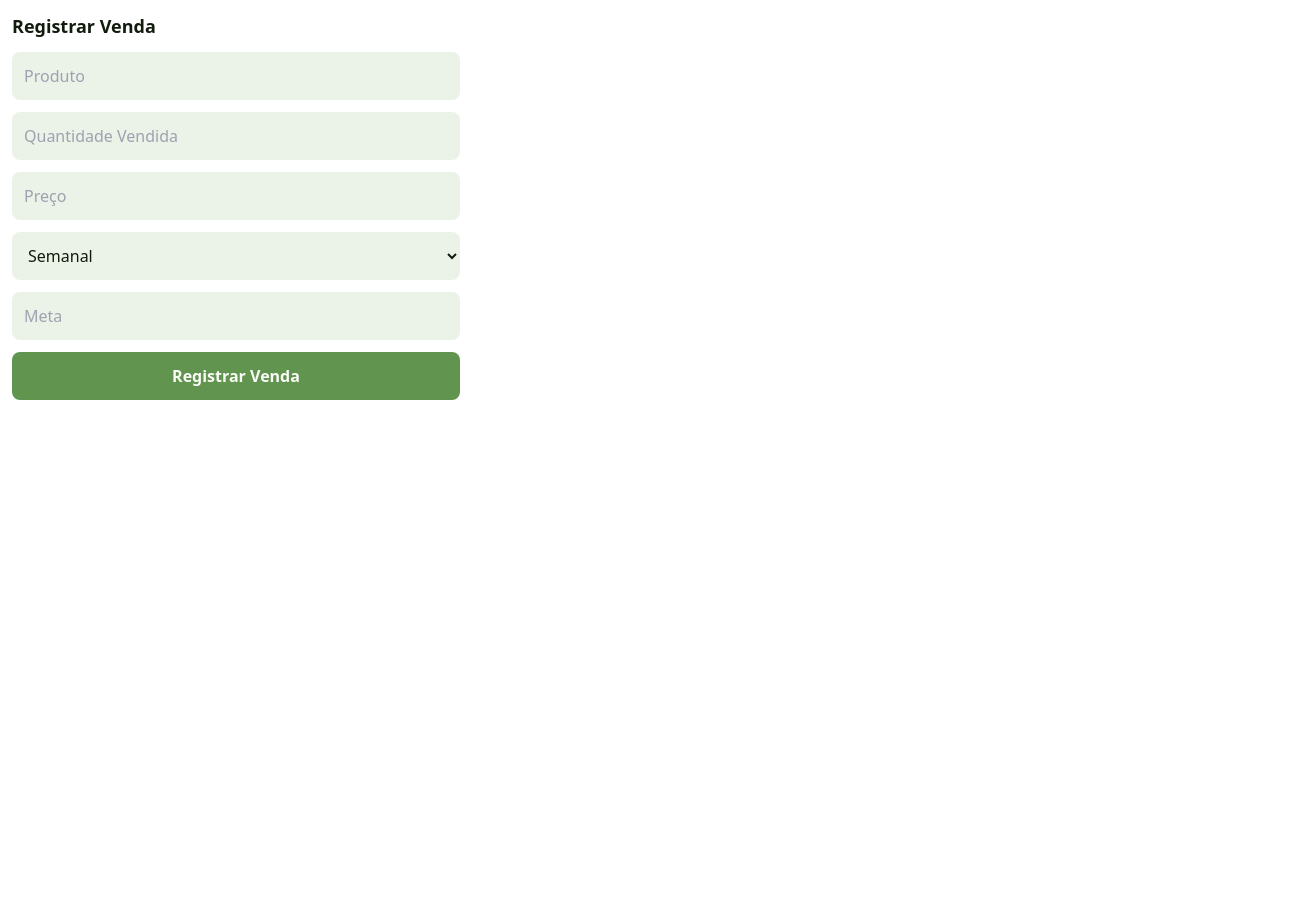
Test: RegisterSale › should show validation errors when submitting empty form
Click the button "Registrar Venda" at point(236, 376), box [12, 352, 460, 400]
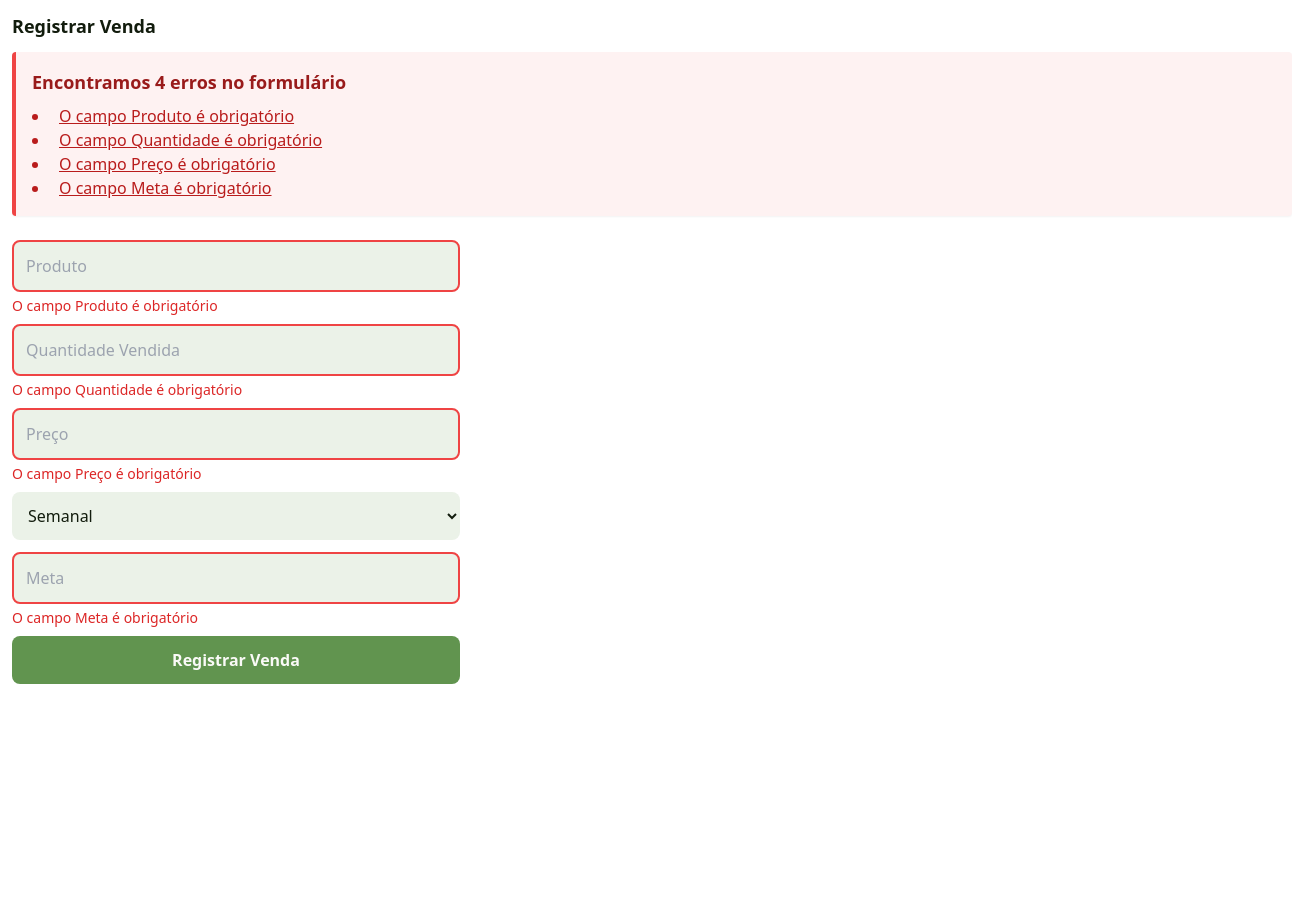
Now the message is shown, box [12, 52, 1291, 216]
Now the text "O campo Produto é obrigatório" is shown, box [12, 296, 218, 315]
Now the text "O campo Quantidade é obrigatório" is shown, box [12, 380, 242, 399]
